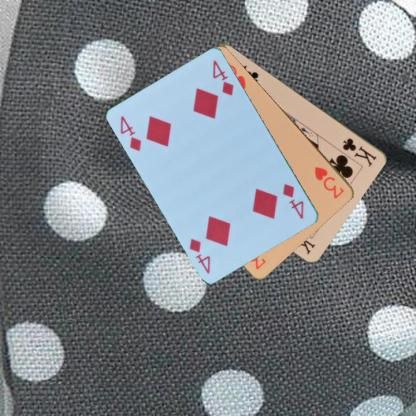3h: (312, 164, 346, 200)
4d: (280, 181, 306, 221), (118, 113, 143, 153)
Kc: (340, 135, 378, 168)
